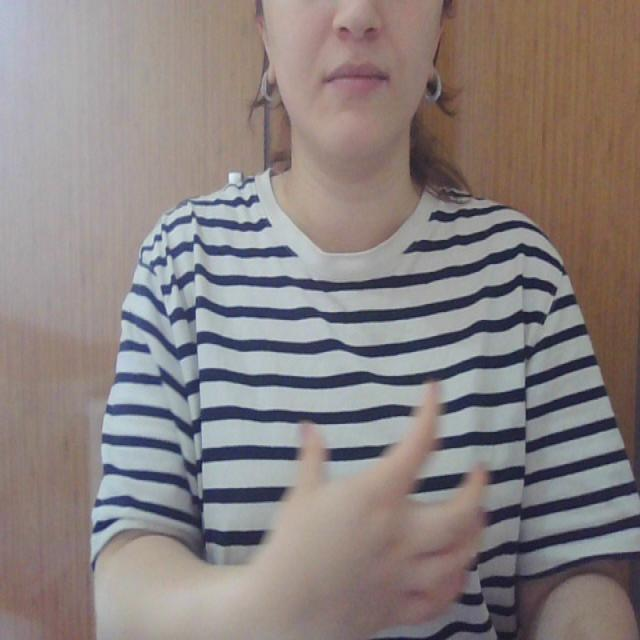Anne: (192, 371, 543, 629)
